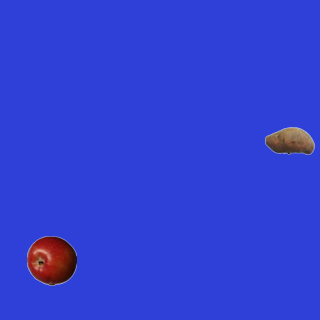Apple Braeburn: (26, 235, 76, 285)
Potato Sweet: (264, 115, 314, 165)
